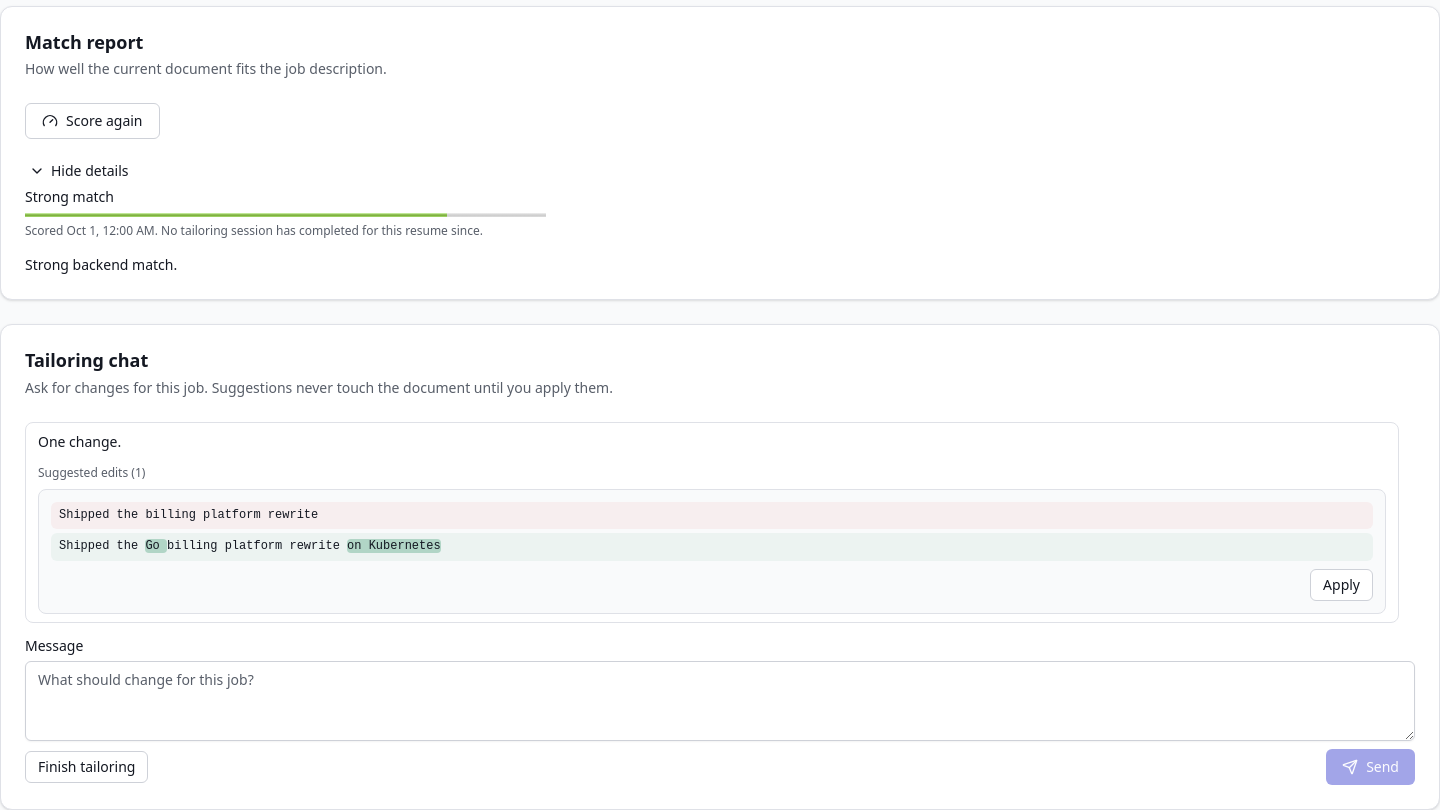
Test: ResumeWorkspace: applying a suggested edit › shows Applied without waiting for the document to be read again
(page scrolled)
Click the button "Apply": x=1342, y=585 [1310,569,1373,601]
(page scrolled)
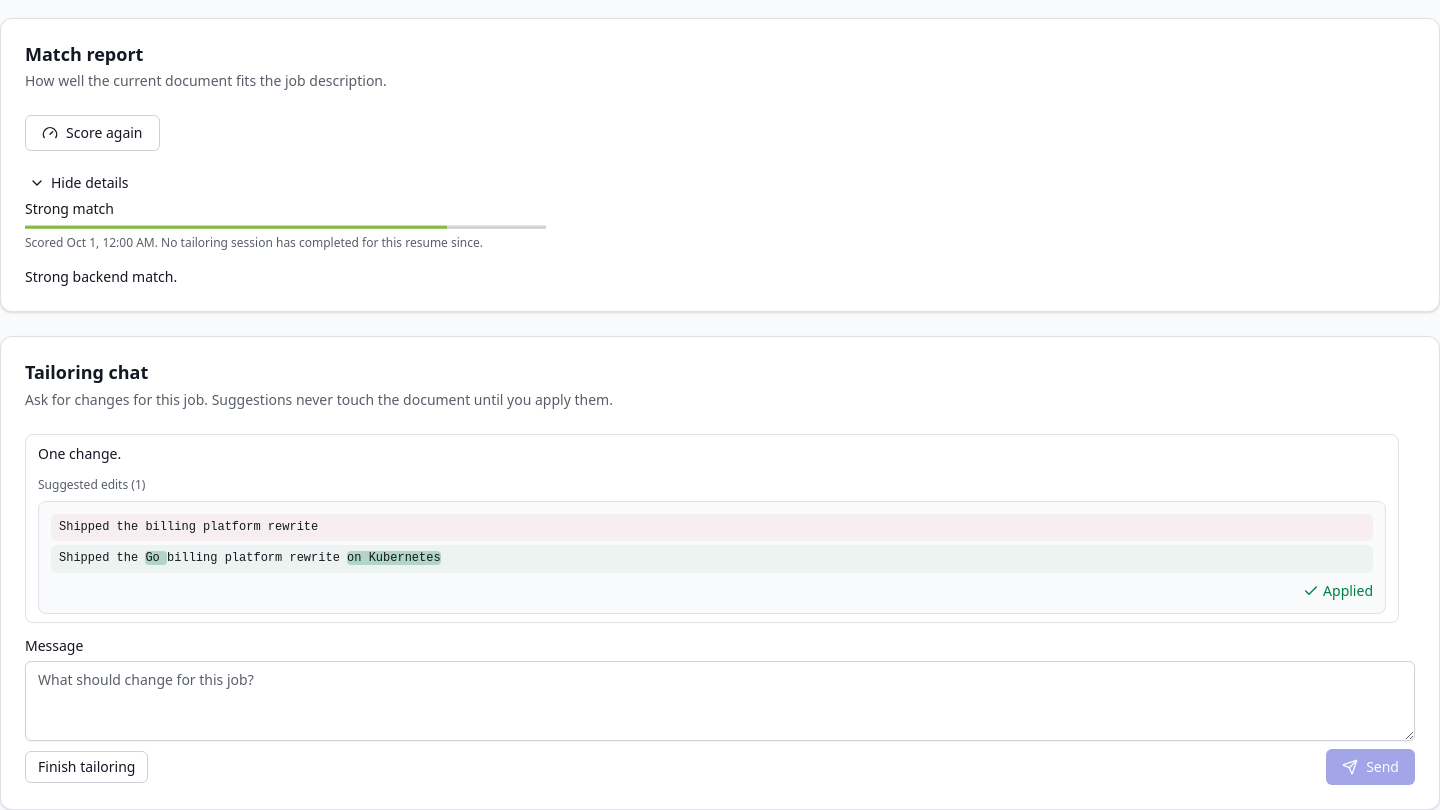
Result: the text "Applied" is shown at [1303,581,1373,601]
